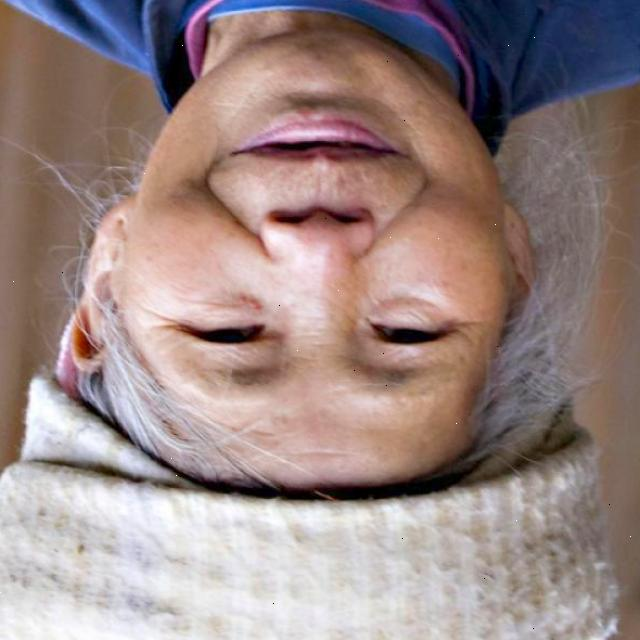puffy_eyes: (372, 296, 451, 323), (183, 296, 252, 325)
